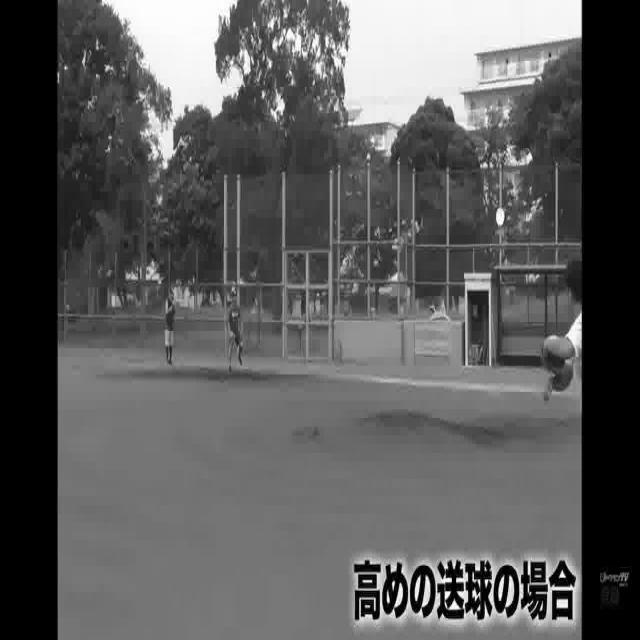baseball: (366, 154, 370, 162)
